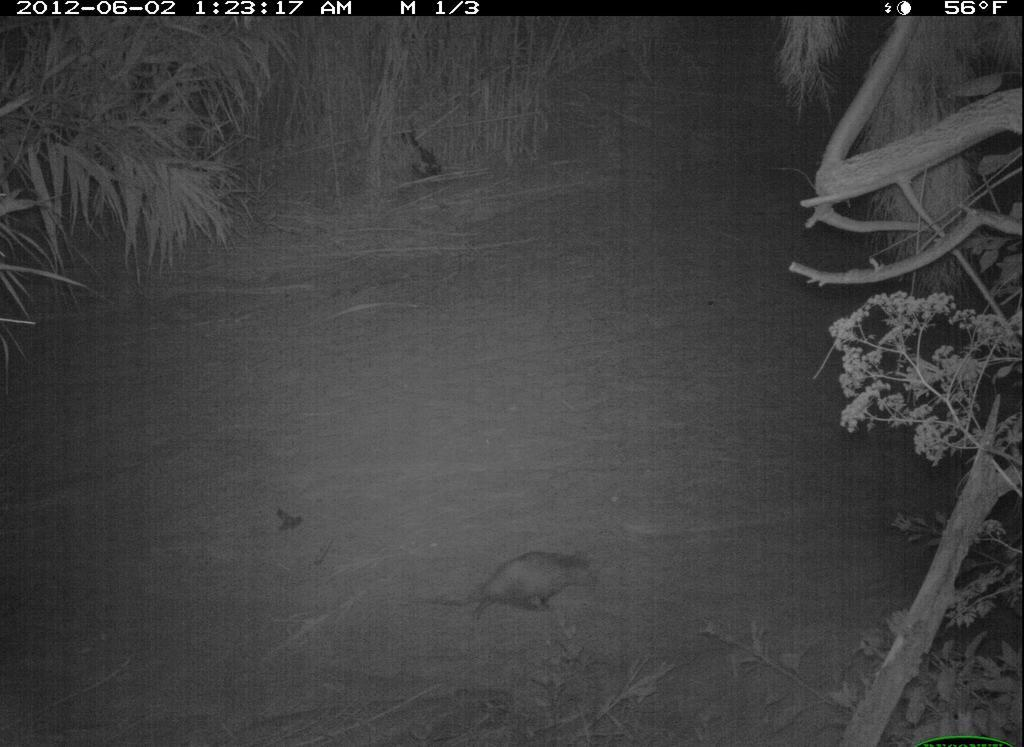opossum: (414, 546, 605, 629)
